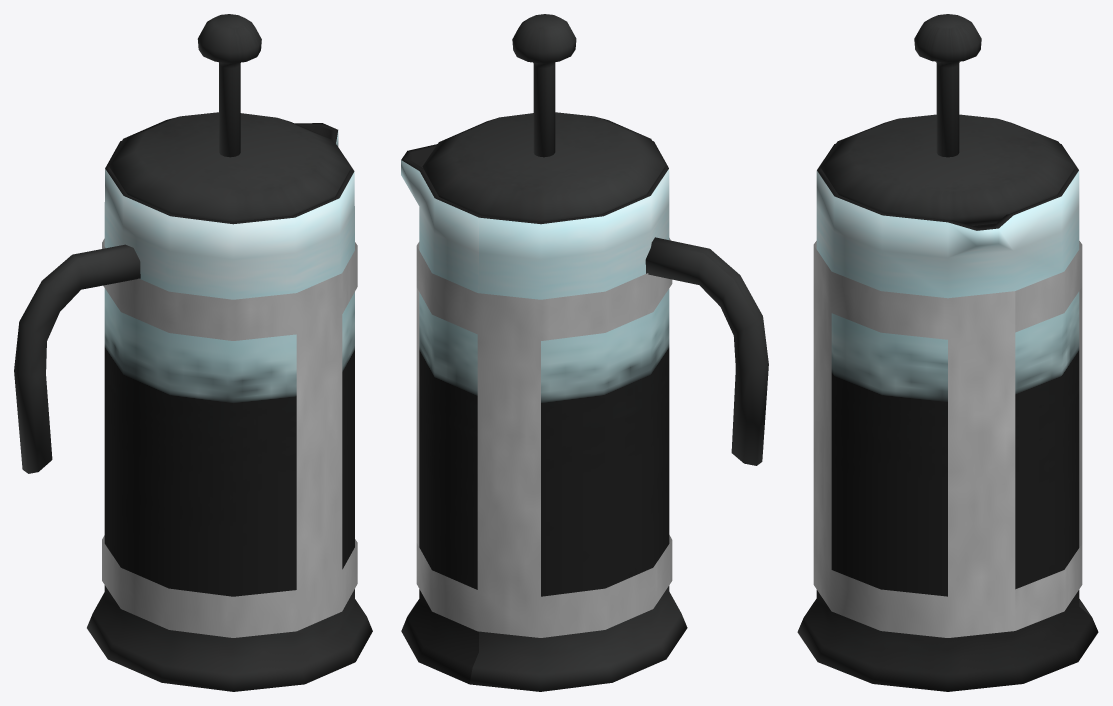
The model's file is FrenchPress_Ground.fbx.
3 renders of one model, left to right at view 1: azimuth 30°, elevation 25°; view 2: azimuth 150°, elevation 25°; view 3: azimuth 270°, elevation 25°, orthographic.
Visible parts, largest first — view 1: FrenchPress; view 2: FrenchPress; view 3: FrenchPress.
Boxes of the visible parts, bbox=[...] form: FrenchPress: bbox=[14, 14, 372, 691]; FrenchPress: bbox=[401, 14, 768, 691]; FrenchPress: bbox=[797, 14, 1098, 691].
Size of the model in its own units: 26.77 by 45.71 by 20.43.
